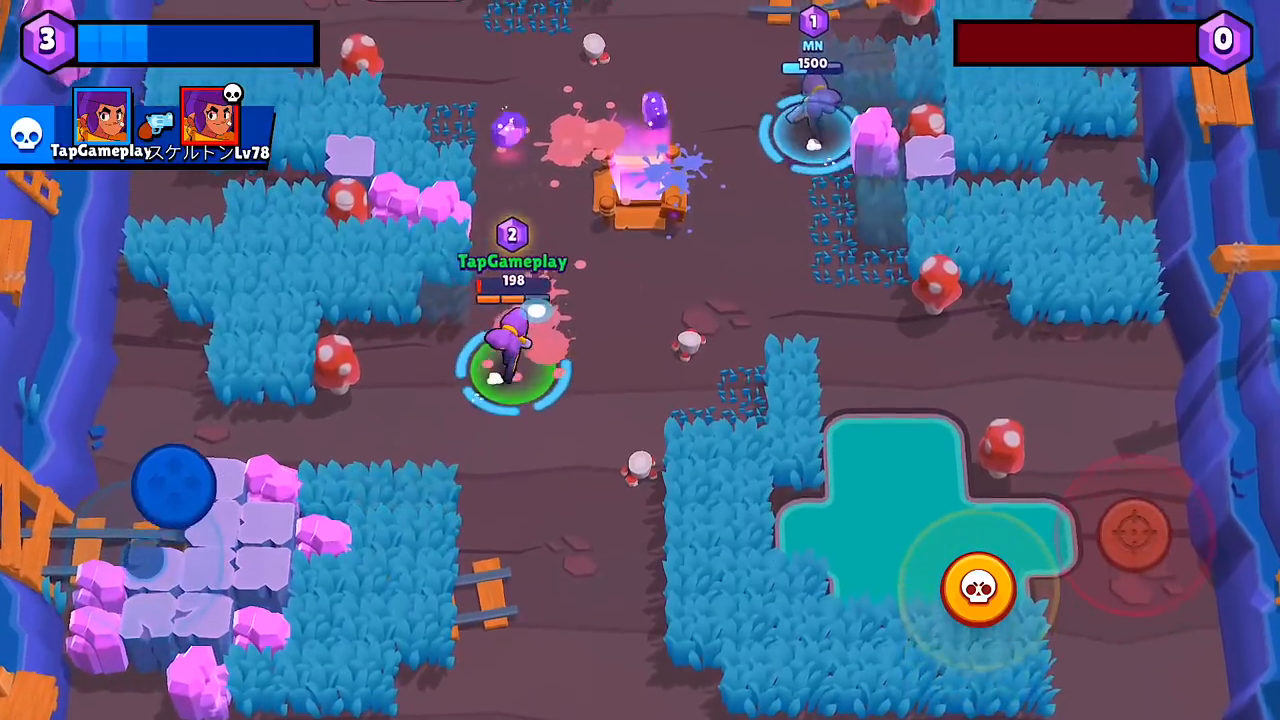move_stick: (131, 446, 229, 515)
